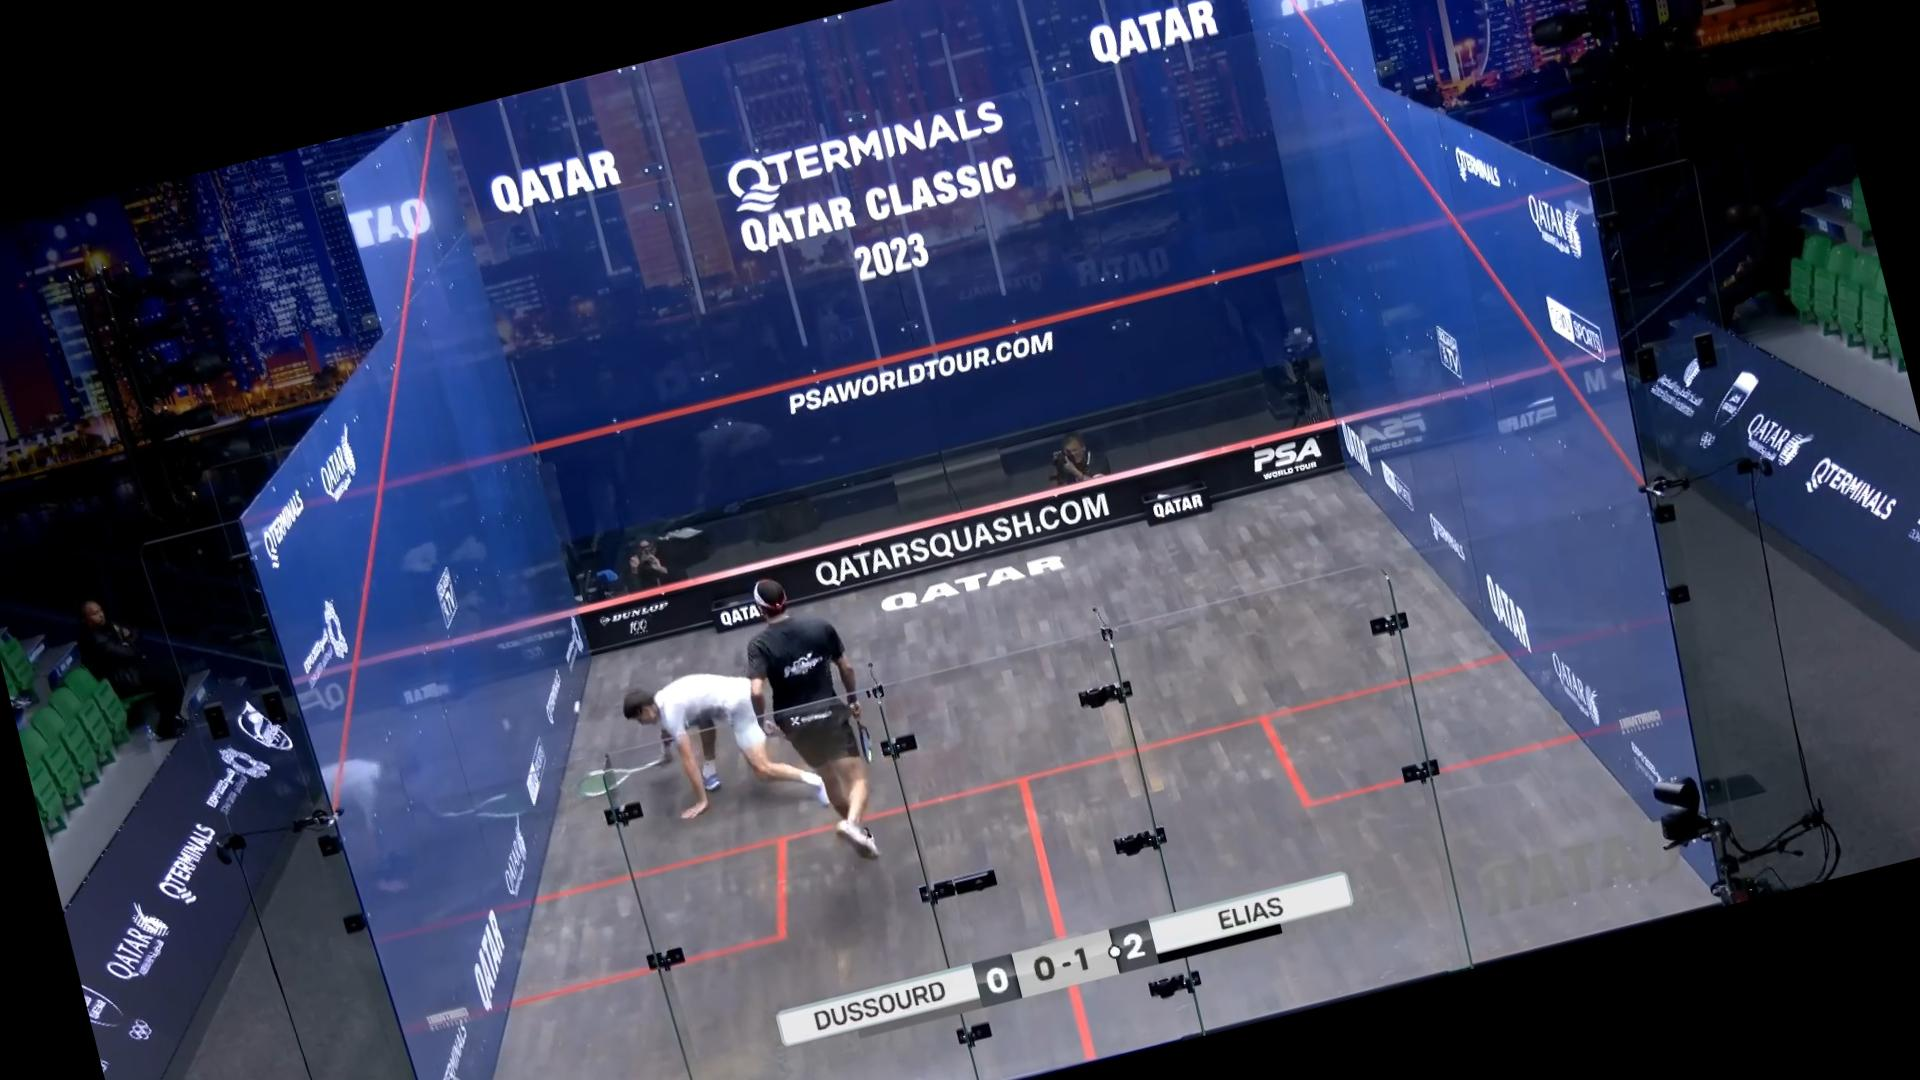Racket: (567, 746, 670, 808)
